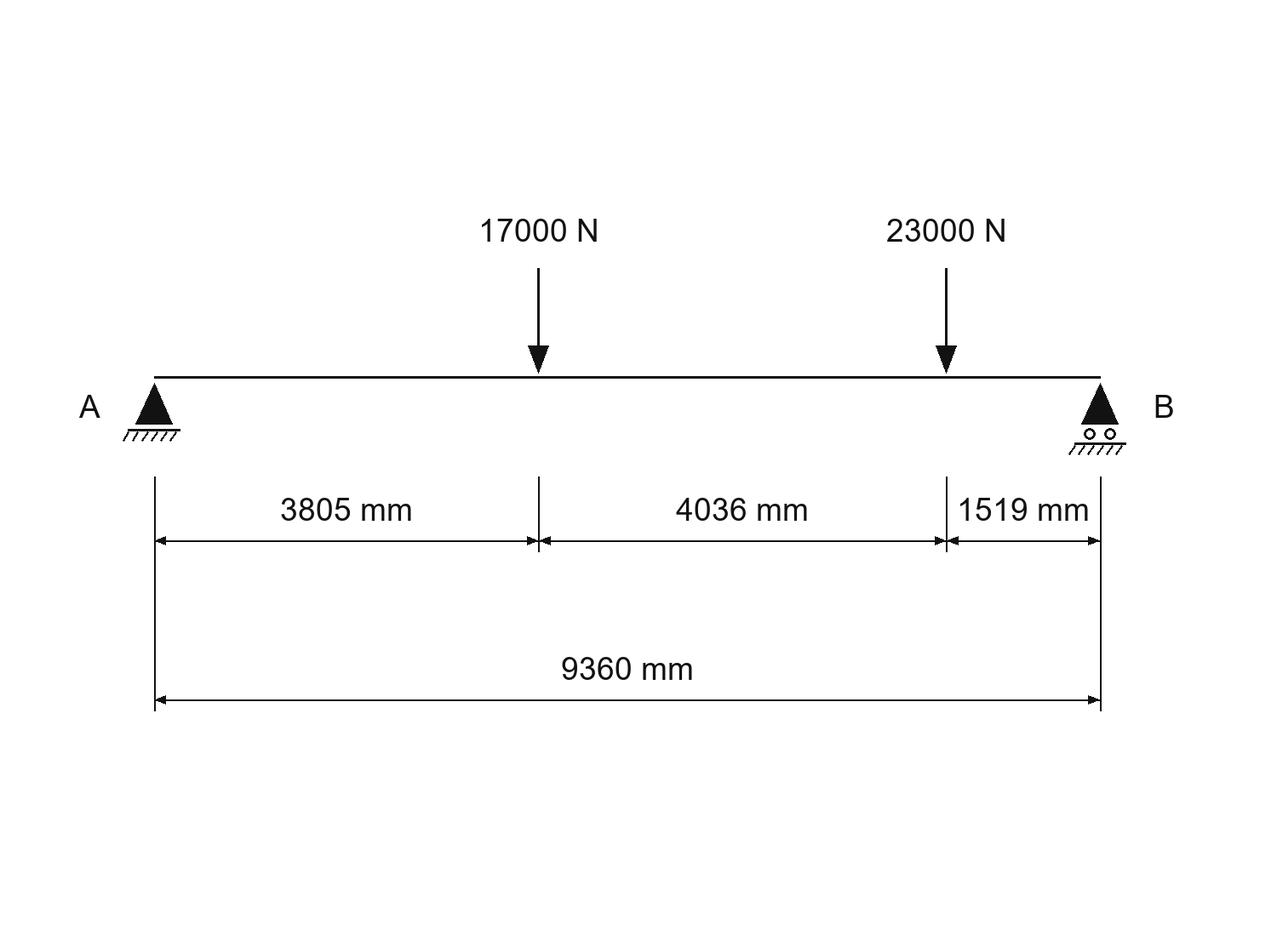pin_support: (123, 383, 180, 442)
point_load: (528, 268, 549, 374), (936, 268, 957, 374)
roller_support: (1068, 383, 1126, 455)
